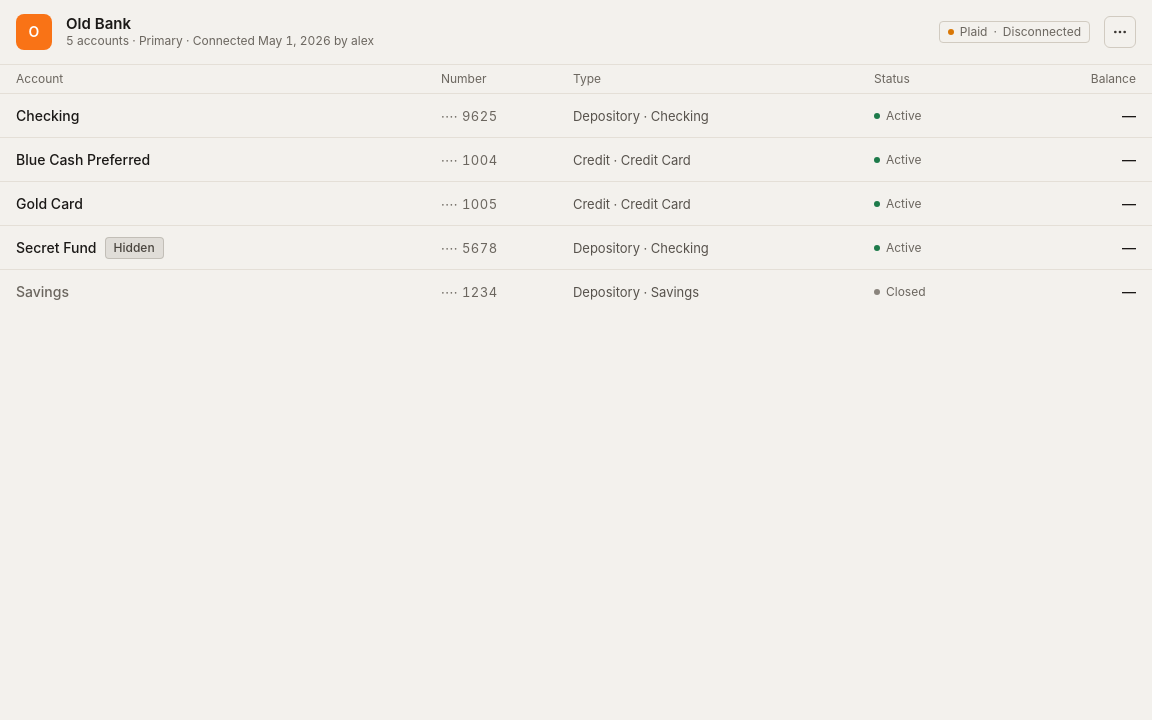
Scenario: AccountsPage › hides Plaid update login for inactive items
Step 1. Click the button named "open actions for old bank" → point(1120, 32), box [1104,16,1136,48]
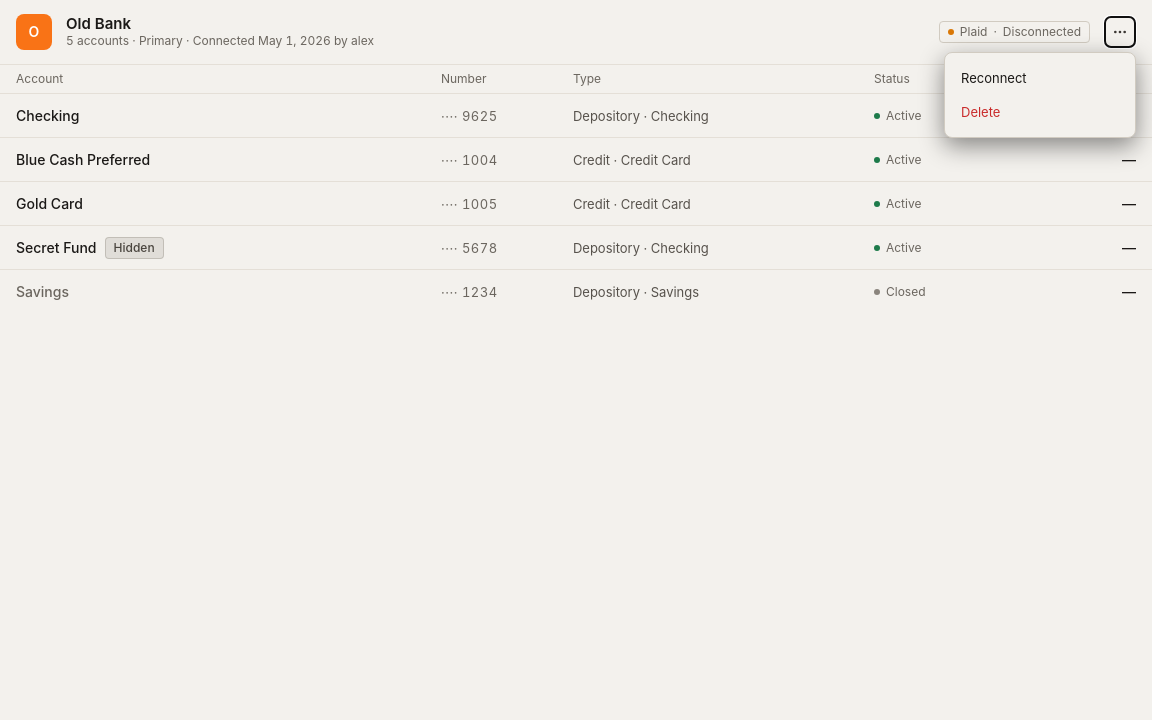
Now the button "Reconnect" is shown, box [953,61,1127,95]
Now the button "Delete" is shown, box [953,95,1127,129]
